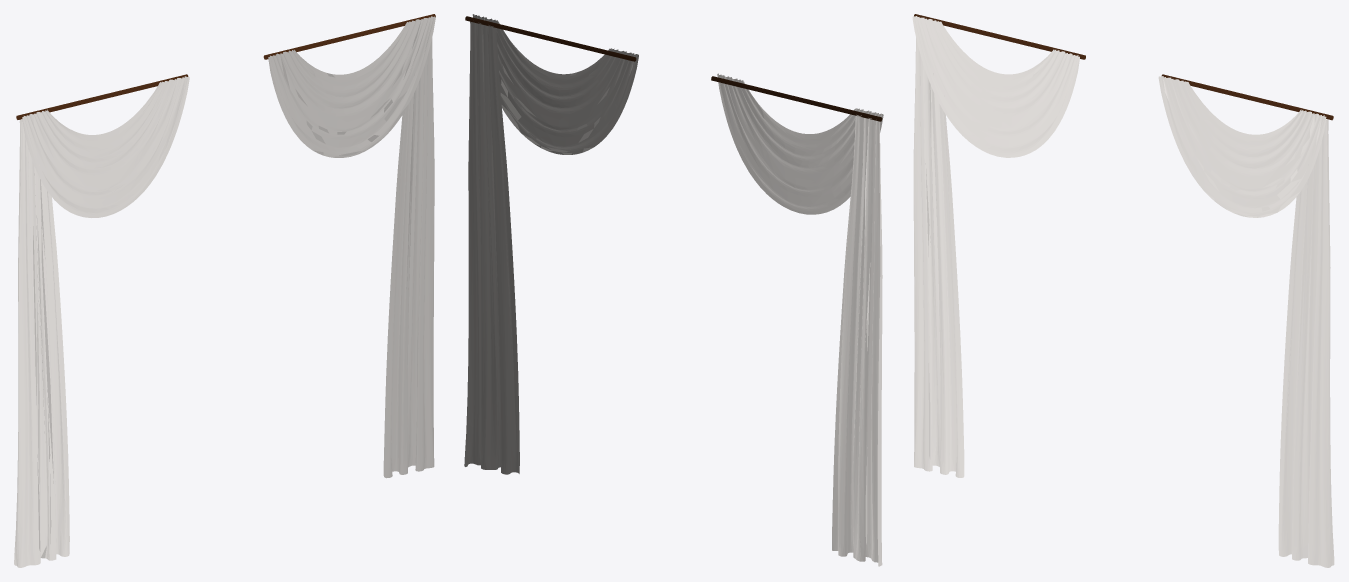
The model's file is Curtains_0f00cbc5.obj.
The picture shows the model from 3 angles, left to right: view 1: azimuth 30°, elevation 25°; view 2: azimuth 150°, elevation 25°; view 3: azimuth 330°, elevation 25°; orthographic projection.
Parts seen in each view (by area): view 1: CurtainMesh_21dbe5ac, FP218:Torus.007_4295a820, FP218:Torus.003_f3d89e2b, FP218:Torus.008_e0175310, CurtainMesh_f3ab6d8f; view 2: FP218:Torus.007_4295a820, CurtainMesh_21dbe5ac, FP218:Torus.008_e0175310, FP218:Torus.003_f3d89e2b, CurtainMesh_f3ab6d8f; view 3: FP218:Torus.007_4295a820, CurtainMesh_21dbe5ac, FP218:Torus.008_e0175310, FP218:Torus.003_f3d89e2b, CurtainMesh_f3ab6d8f.
Boxes of the visible parts, x1=… form: CurtainMesh_21dbe5ac: x1=14, y1=119, x2=69, y2=567; FP218:Torus.007_4295a820: x1=383, y1=38, x2=434, y2=478; FP218:Torus.003_f3d89e2b: x1=22, y1=76, x2=189, y2=217; FP218:Torus.008_e0175310: x1=268, y1=16, x2=435, y2=157; CurtainMesh_f3ab6d8f: x1=16, y1=14, x2=435, y2=119; FP218:Torus.007_4295a820: x1=464, y1=21, x2=519, y2=474; CurtainMesh_21dbe5ac: x1=832, y1=115, x2=882, y2=566; FP218:Torus.008_e0175310: x1=472, y1=14, x2=638, y2=154; FP218:Torus.003_f3d89e2b: x1=717, y1=73, x2=883, y2=214; CurtainMesh_f3ab6d8f: x1=465, y1=16, x2=882, y2=121; FP218:Torus.007_4295a820: x1=1278, y1=119, x2=1334, y2=567; CurtainMesh_21dbe5ac: x1=913, y1=38, x2=964, y2=477; FP218:Torus.008_e0175310: x1=1158, y1=76, x2=1326, y2=217; FP218:Torus.003_f3d89e2b: x1=912, y1=16, x2=1079, y2=157; CurtainMesh_f3ab6d8f: x1=914, y1=14, x2=1333, y2=120.
Size of the model in its own units: 3.26 by 3.37 by 0.1.
